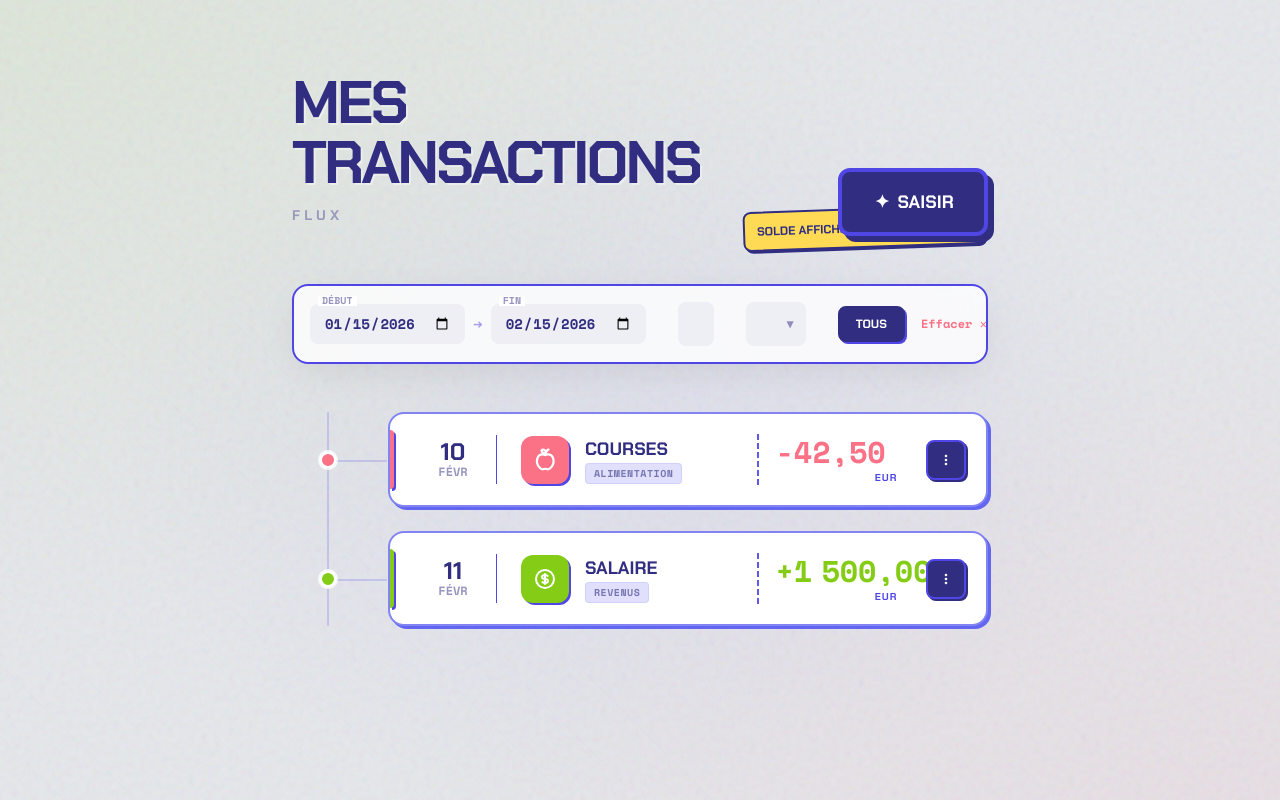
Test case: US11 - Suppression transaction › Protection des données: erreur 403 si transaction autre utilisateur
The width and height of the screenshot is (1280, 800).
Click the button titled "Actions" next to "42,50" at x=946, y=460, box [926,440,966,480]
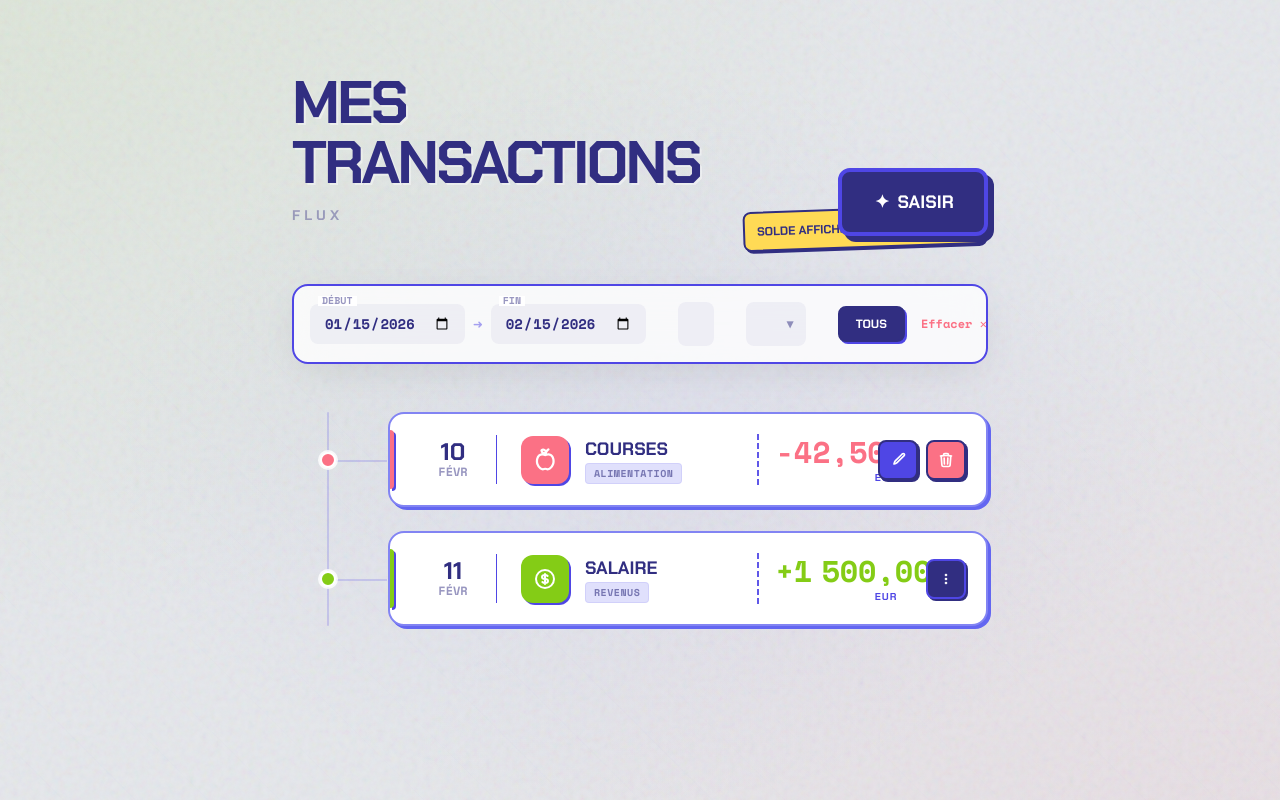
Click the button titled "Supprimer" at x=946, y=460, box [926,440,966,480]
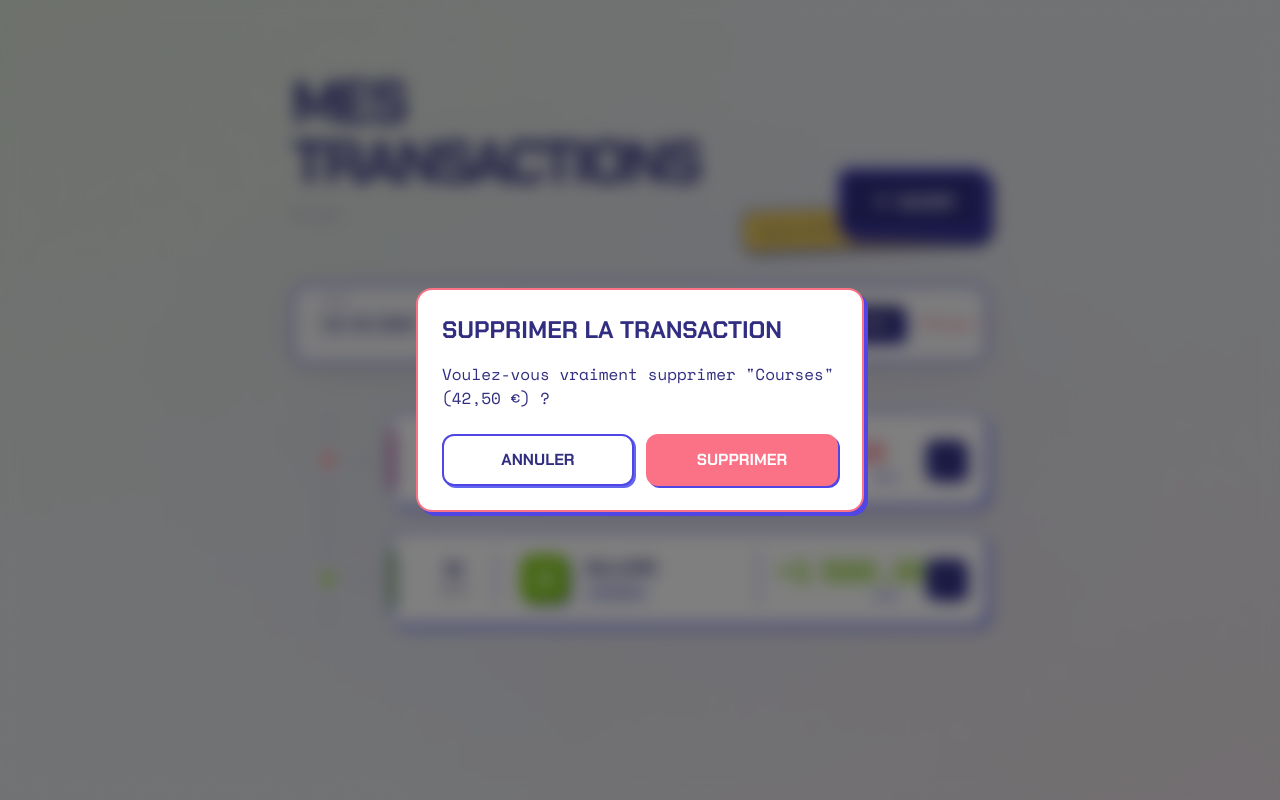
Now the heading "Supprimer la transaction" is shown, box [442,314,838,346]
Click the button "Supprimer" at x=742, y=460, box [646,434,838,486]
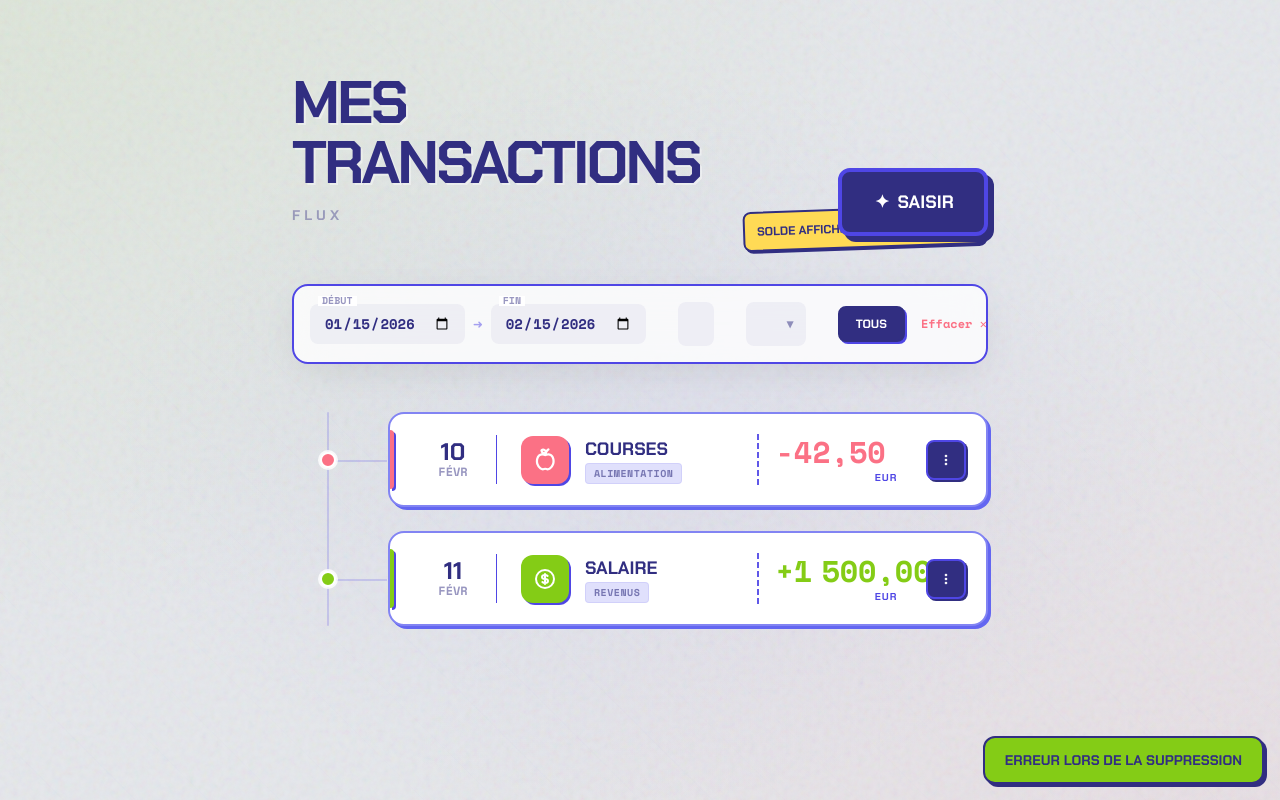
Now the text "Erreur lors de la suppression" is shown, box [983,736,1264,784]
